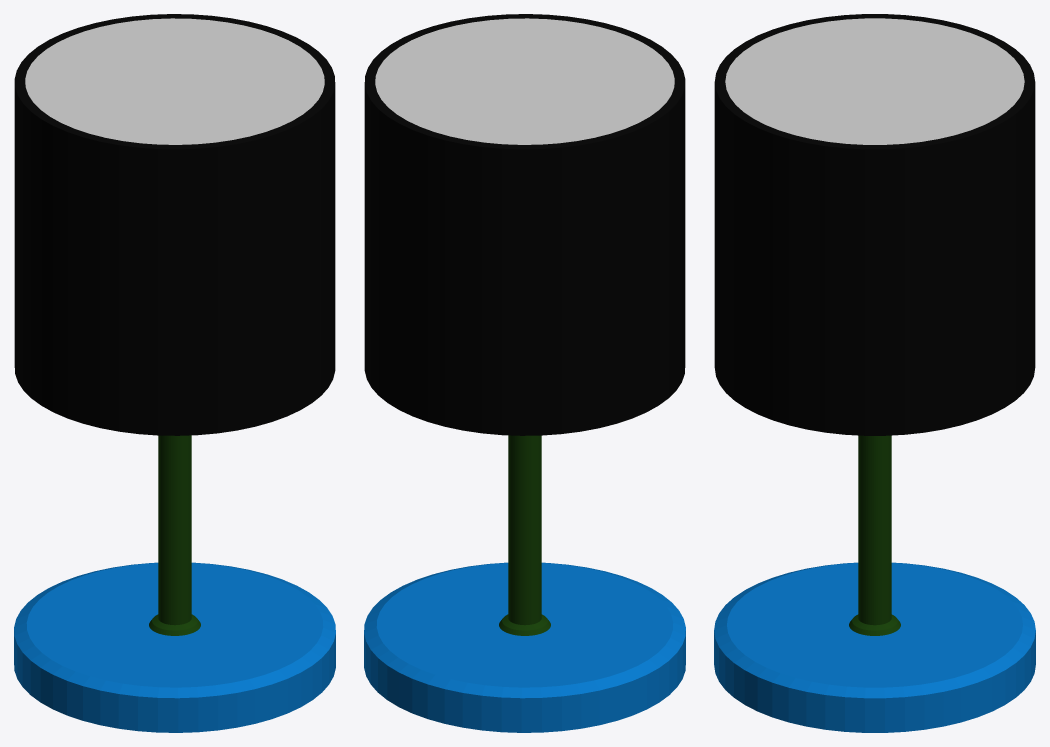
File: abajur.fbx
3 views of the same model, side by side, from view 1: azimuth 30°, elevation 25°; view 2: azimuth 150°, elevation 25°; view 3: azimuth 270°, elevation 25° (orthographic).
Visible parts, largest first — view 1: Cylinder.001 (×4); view 2: Cylinder.001 (×4); view 3: Cylinder.001 (×4).
Boxes of the visible parts, <box> form: Cylinder.001 (×4): <box>14,14,335,732</box>; Cylinder.001 (×4): <box>364,14,685,732</box>; Cylinder.001 (×4): <box>714,14,1035,732</box>.
Bounding box in the file's own units: 15 × 30 × 15.
